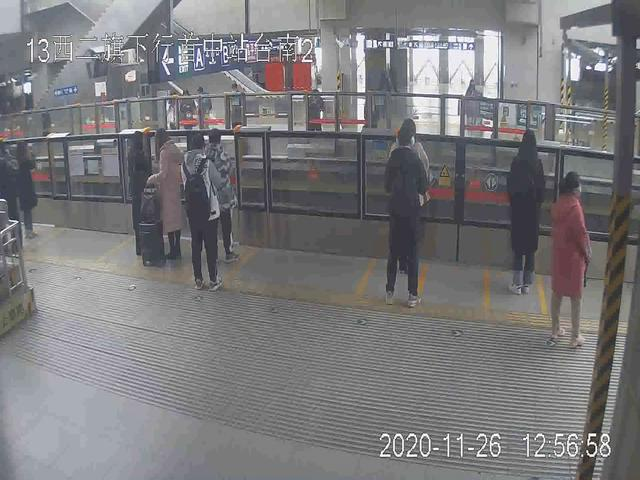person: (382, 128, 426, 309), (550, 169, 589, 352), (180, 133, 222, 292), (507, 130, 542, 298), (151, 127, 186, 261), (206, 129, 240, 261), (125, 131, 151, 249), (11, 142, 37, 236)
